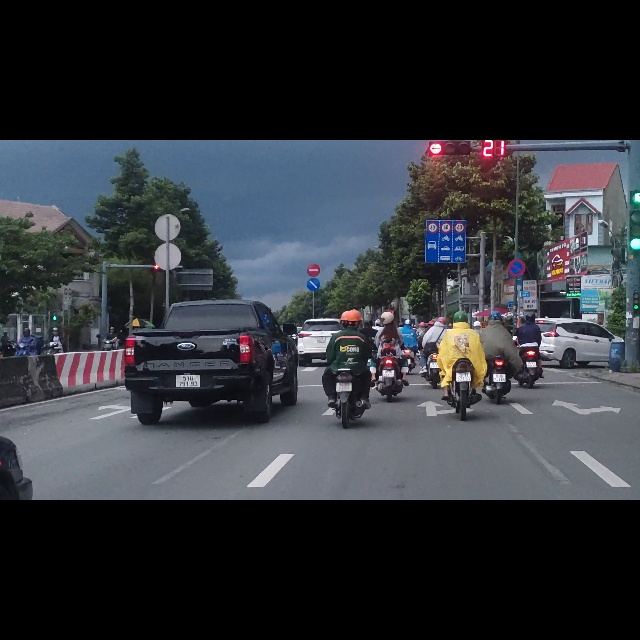bien_hieu_lenh: (425, 167, 466, 217), (507, 210, 525, 243), (307, 220, 320, 243), (307, 245, 320, 268), (440, 146, 451, 165), (427, 146, 437, 165), (455, 146, 464, 165)
